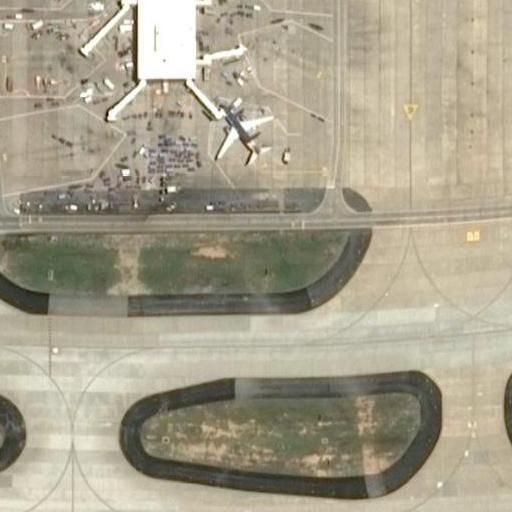Aircraft: (207, 100, 277, 168)
